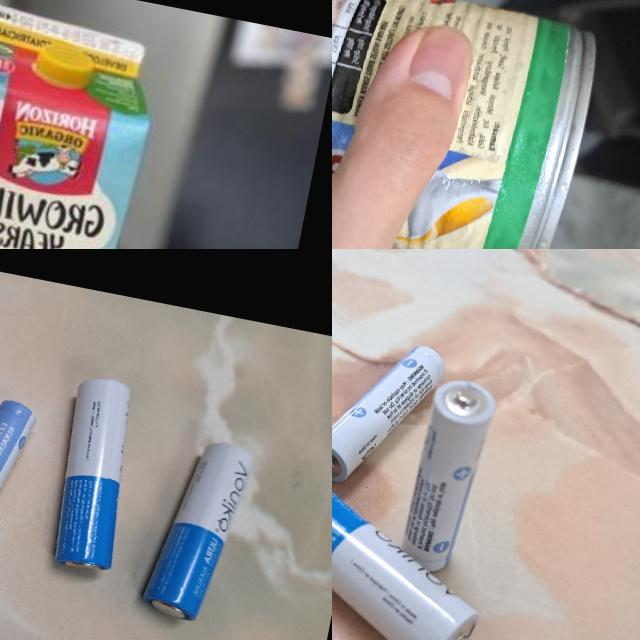bateria: (332, 454, 501, 640), (142, 432, 254, 628), (393, 374, 498, 576), (42, 372, 144, 577), (332, 325, 450, 499), (0, 388, 41, 579)
caixinha: (0, 0, 170, 249)
lata: (332, 0, 606, 249)
tampa plástica: (33, 41, 98, 93)
